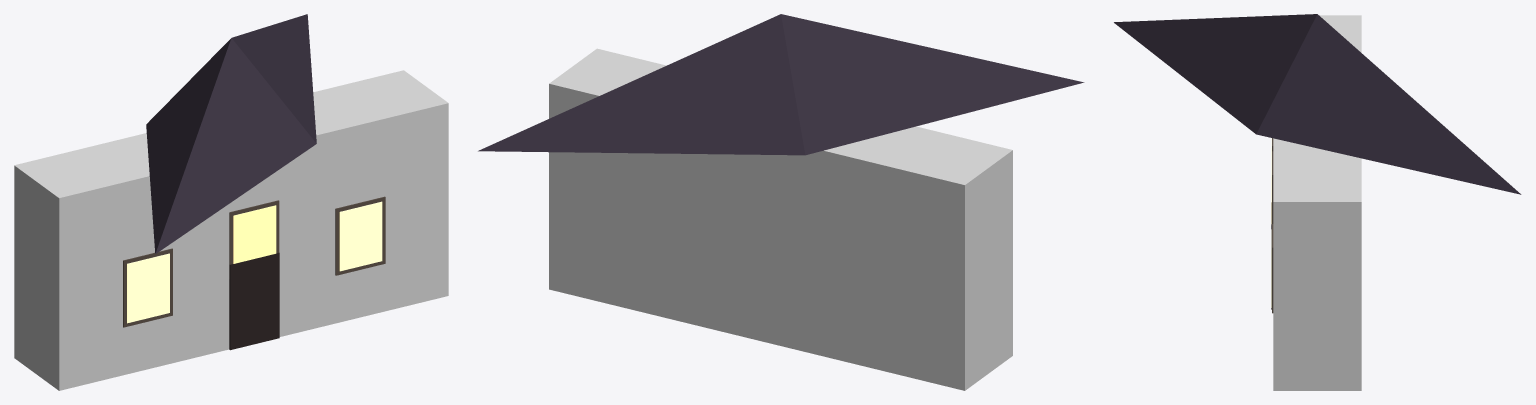
The model's file is ghost_house.glb.
The picture shows the model from 3 angles, left to right: view 1: azimuth 30°, elevation 25°; view 2: azimuth 150°, elevation 25°; view 3: azimuth 270°, elevation 25°; orthographic projection. The views are drawn at different scales.
Visible parts, largest first — view 1: COL_Facade, GhostHouse; view 2: COL_Facade, GhostHouse; view 3: GhostHouse, COL_Facade.
Boxes of the visible parts, x1,y1,x2,y2 form: COL_Facade: (14, 70, 448, 390); GhostHouse: (123, 14, 385, 350); COL_Facade: (549, 48, 1012, 390); GhostHouse: (478, 14, 1084, 155); GhostHouse: (1114, 14, 1521, 313); COL_Facade: (1273, 15, 1361, 390).
Bounding box in the file's own units: 11 × 7.8 × 10.18.
